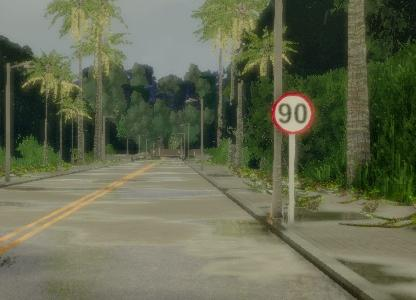Speed_90: (272, 91, 315, 137)
